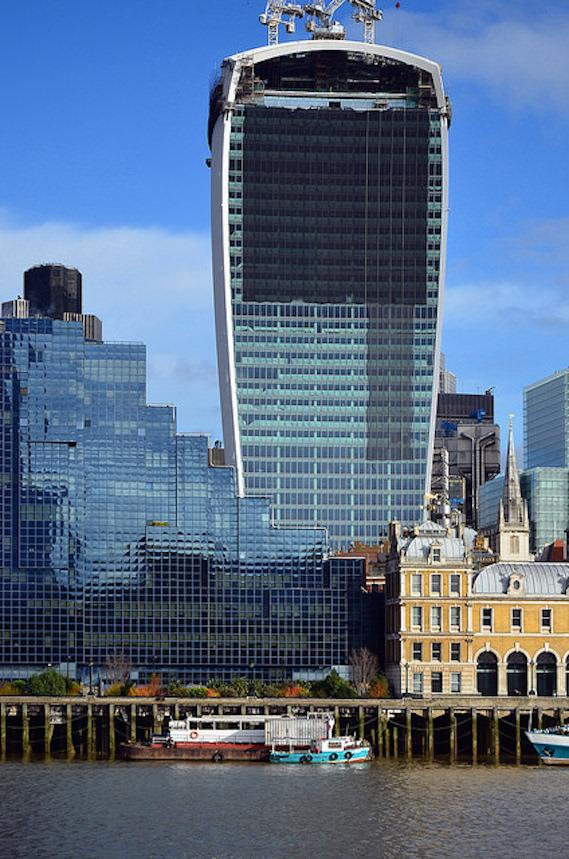Walkie talkie: (202, 30, 461, 525)
